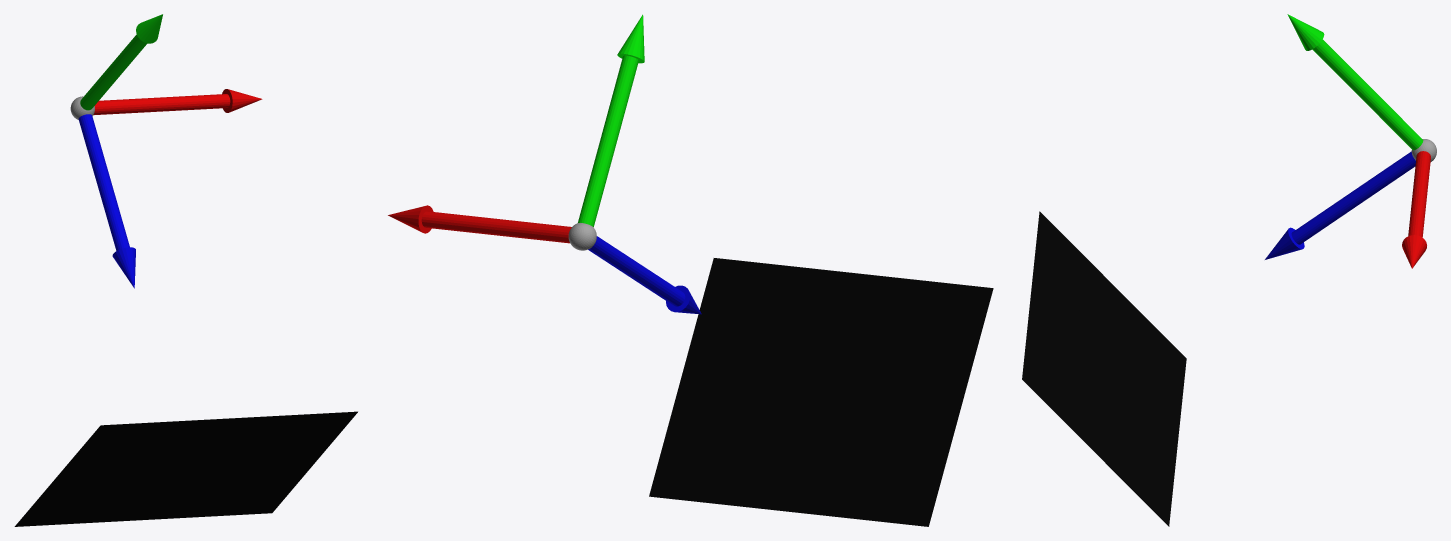
The picture shows the model from 3 angles, left to right: view 1: azimuth 30°, elevation 25°; view 2: azimuth 150°, elevation 25°; view 3: azimuth 270°, elevation 25°; orthographic projection. The views are drawn at different scales.
Bounding box in the file's own units: 0.253 × 0.3181 × 0.2458.
